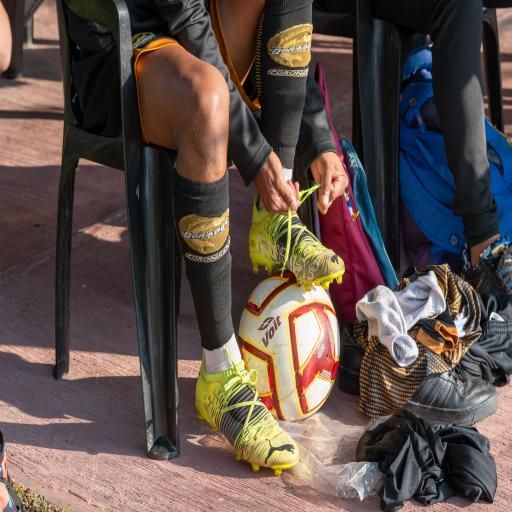shoe: (196, 361, 299, 475), (250, 194, 344, 290), (403, 366, 498, 424), (462, 237, 511, 294), (338, 322, 364, 394)
